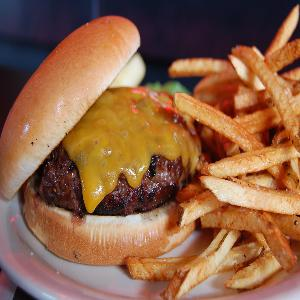cheeseburger: (6, 7, 196, 266)
fries: (204, 4, 300, 273)
